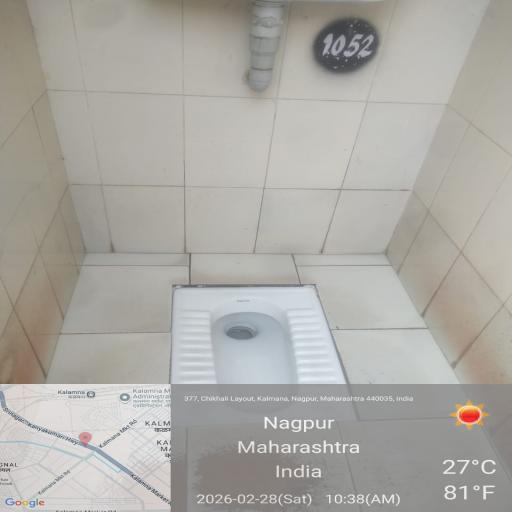clean_floor: (30, 19, 488, 262)
clean_indian: (187, 268, 399, 470)
dirty_floor: (16, 398, 460, 512)
